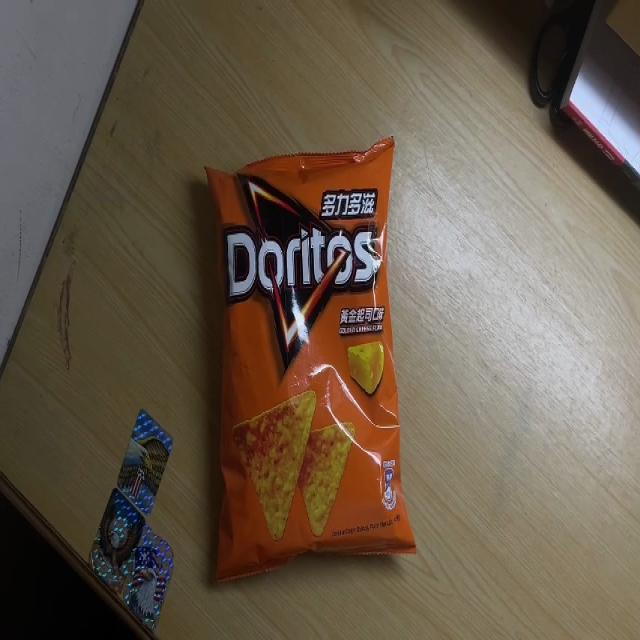Doritos: (204, 136, 416, 582)
